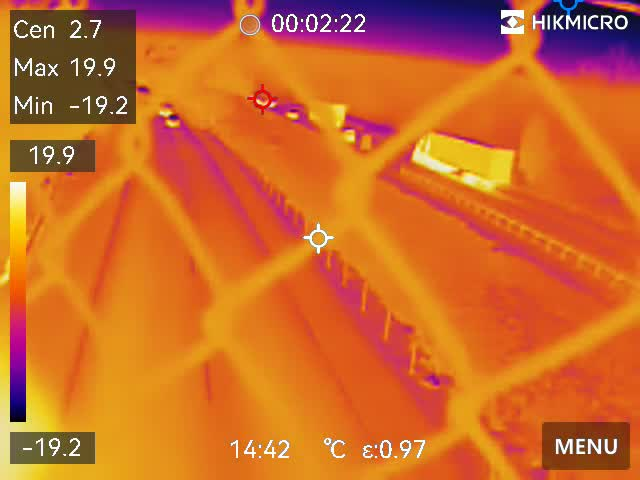heavyTruck: (413, 128, 512, 187), (306, 100, 346, 128)
vehicle: (154, 103, 177, 115), (165, 112, 183, 127), (281, 109, 300, 122)
